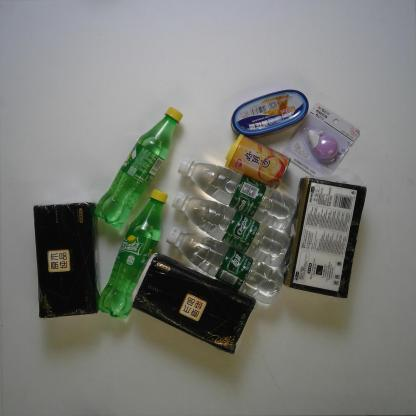Canned Food: (230, 89, 309, 140), (224, 134, 291, 190)
Drink: (93, 107, 186, 228), (165, 226, 286, 306), (94, 190, 169, 318), (171, 192, 290, 267), (177, 158, 297, 231)
Stationery: (284, 103, 360, 181)
Tissue: (128, 253, 256, 355), (282, 176, 368, 299), (32, 202, 98, 319)
